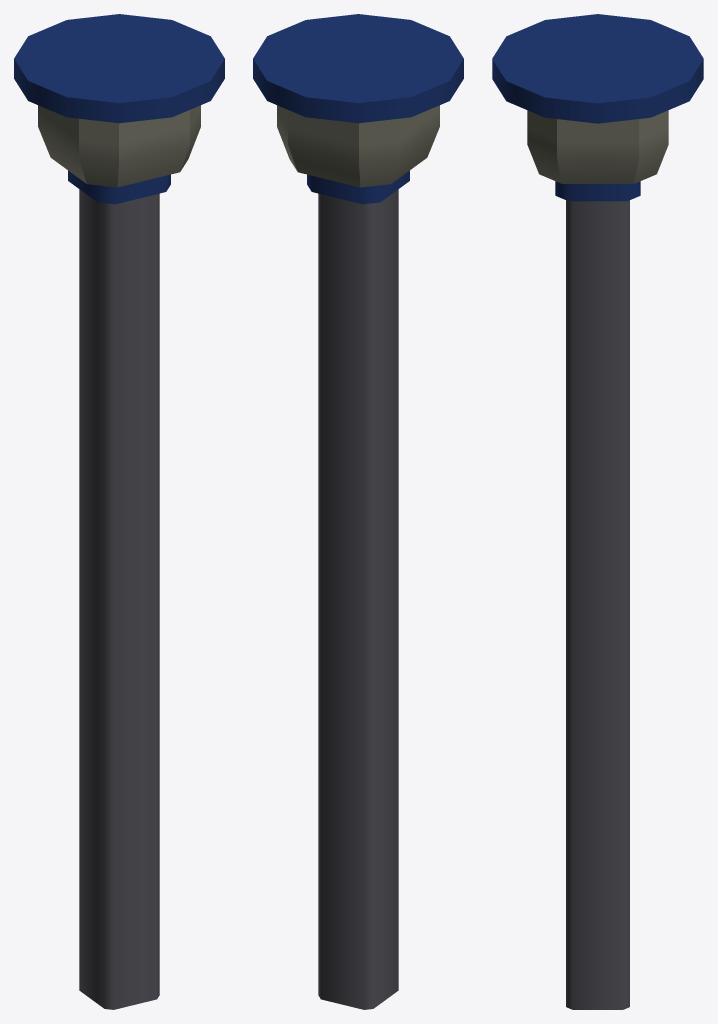
The model's file is LPSciFi_SupportPoleThinTop.fbx.
3 renders of one model, left to right at view 1: azimuth 30°, elevation 25°; view 2: azimuth 150°, elevation 25°; view 3: azimuth 270°, elevation 25°, orthographic.
Visible parts, largest first — view 1: SupportPoleThinTop; view 2: SupportPoleThinTop; view 3: SupportPoleThinTop.
Boxes of the visible parts, left/top/right/bottom form: SupportPoleThinTop: left=14, top=14, right=224, bottom=1009; SupportPoleThinTop: left=253, top=14, right=463, bottom=1009; SupportPoleThinTop: left=492, top=14, right=703, bottom=1009.
Bounding box in the file's own units: 200 × 978 × 200.
